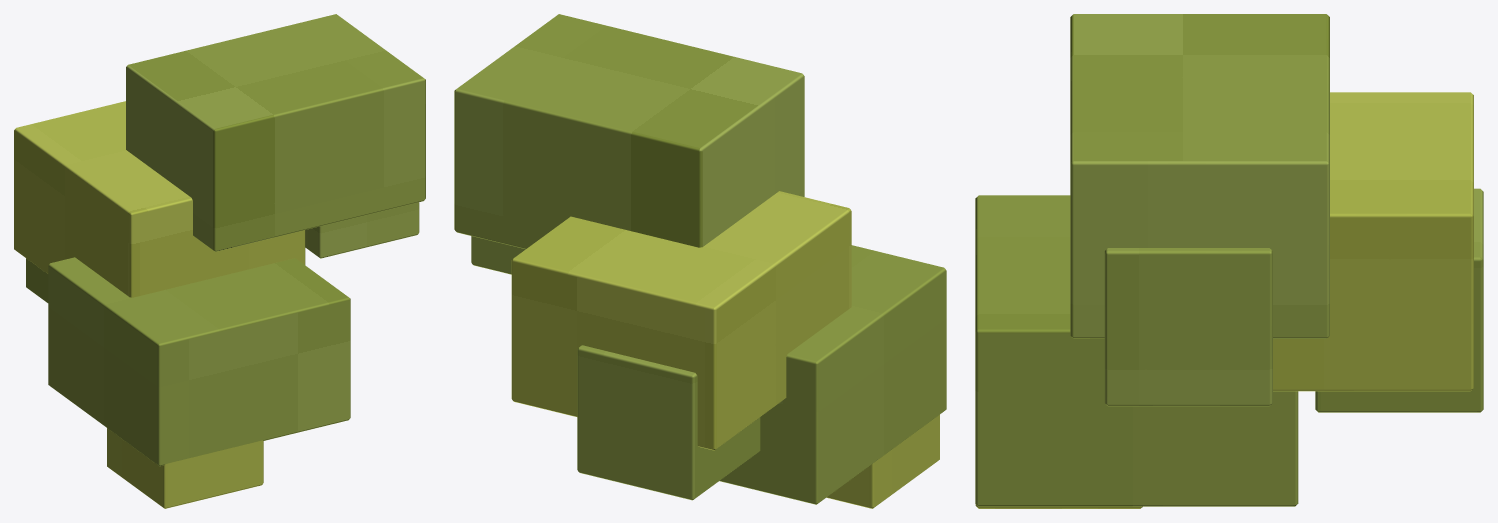
The model's file is Fern-frond.glb.
3 renders of one model, left to right at view 1: azimuth 30°, elevation 25°; view 2: azimuth 150°, elevation 25°; view 3: azimuth 270°, elevation 25°, orthographic. The views are drawn at different scales.
Visible parts, largest first — view 1: Fern-frond; view 2: Fern-frond; view 3: Fern-frond.
Boxes of the visible parts, x1,y1,x2,y2 form: Fern-frond: (14, 14, 425, 508); Fern-frond: (454, 14, 946, 508); Fern-frond: (975, 14, 1483, 508).
Bounding box in the file's own units: 0.1094 × 0.1146 × 0.1087.
2 materials, 2 textured.
